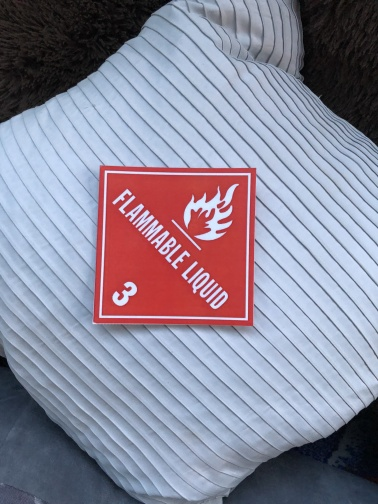FlammableLiquid: (95, 163, 256, 324)
